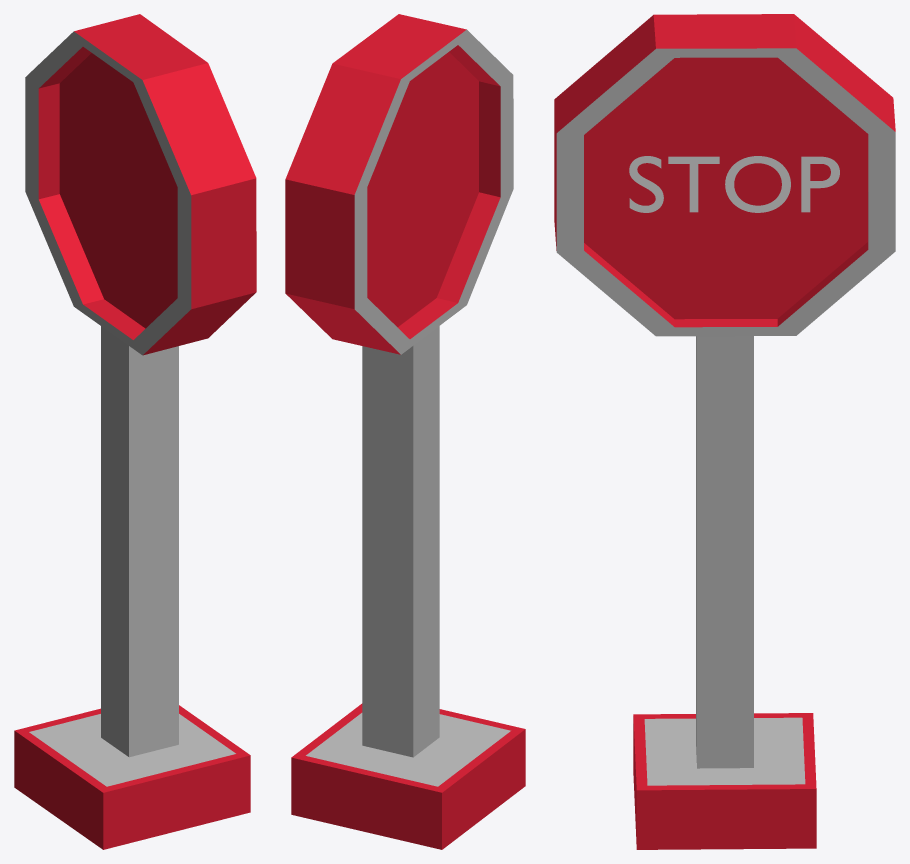
Rendered from Stop.fbx.
The picture shows the model from 3 angles, left to right: view 1: azimuth 30°, elevation 25°; view 2: azimuth 150°, elevation 25°; view 3: azimuth 270°, elevation 25°; orthographic projection. The views are drawn at different scales.
Parts seen in each view (by area): view 1: Cube; view 2: Cube; view 3: Cube, Text.
Boxes of the visible parts, x1,y1,x2,y2 form: Cube: [14, 14, 256, 849]; Cube: [285, 14, 525, 849]; Cube: [554, 14, 895, 849]; Text: [629, 156, 839, 212].
Size of the model in its own units: 81.46 by 385 by 152.
